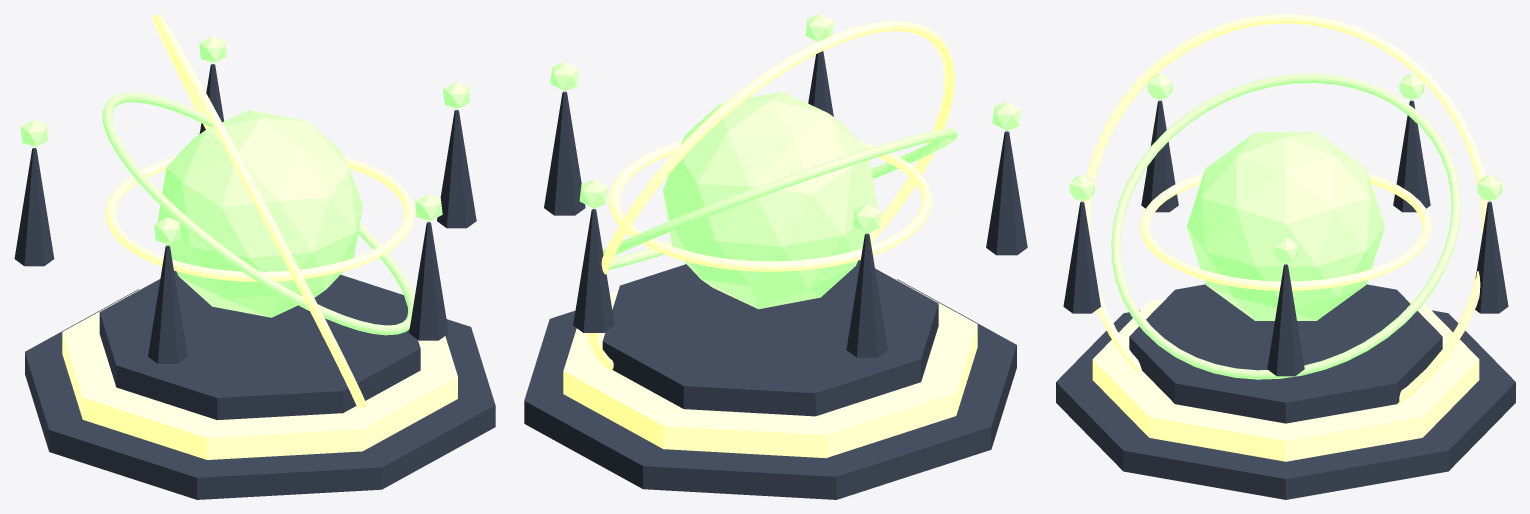
Rendered from gpu-blender-v55.glb.
3 renders of one model, left to right at view 1: azimuth 30°, elevation 25°; view 2: azimuth 150°, elevation 25°; view 3: azimuth 270°, elevation 25°, orthographic. The views are drawn at different scales.
Parts seen in each view (by area): view 1: Cylinder.002, SovereignCore_cwv-speed-engine, Cylinder, Cylinder.001, Torus.001, Torus.002, Torus, Cone.002, Cone.004, Cone.003, Cone, Icosphere.001 (+5 smaller); view 2: Cylinder.002, SovereignCore_cwv-speed-engine, Cylinder, Cylinder.001, Torus.002, Torus, Torus.001, Cone.003, Cone.002, Cone, Cone.001, Cone.004 (+5 smaller); view 3: SovereignCore_cwv-speed-engine, Cylinder.002, Cylinder, Cylinder.001, Torus.001, Torus.002, Torus, Cone, Cone.004, Cone.001, Cone.002, Cone.003 (+5 smaller).
Boxes of the visible parts, left/top/right/bottom form: Cylinder.002: left=99, top=271, right=420, bottom=420; SovereignCore_cwv-speed-engine: left=157, top=110, right=362, bottom=317; Cylinder: left=25, top=289, right=495, bottom=499; Cylinder.001: left=62, top=279, right=457, bottom=459; Torus.001: left=102, top=92, right=414, bottom=335; Torus.002: left=152, top=14, right=366, bottom=407; Torus: left=105, top=156, right=414, bottom=281; Cone.002: left=14, top=148, right=54, bottom=266; Cone.004: left=409, top=222, right=448, bottom=340; Cone.003: left=148, top=245, right=187, bottom=363; Cone: left=437, top=110, right=476, bottom=228; Icosphere.001: left=199, top=36, right=226, bottom=63; Cylinder.002: left=602, top=260, right=938, bottom=416; SovereignCore_cwv-speed-engine: left=663, top=91, right=877, bottom=309; Cylinder: left=524, top=279, right=1016, bottom=499; Cylinder.001: left=563, top=269, right=977, bottom=458; Torus.002: left=587, top=20, right=954, bottom=370; Torus: left=609, top=140, right=932, bottom=271; Torus.001: left=603, top=128, right=957, bottom=269; Cone.003: left=986, top=131, right=1027, bottom=255; Cone.002: left=846, top=233, right=887, bottom=357; Cone: left=544, top=91, right=585, bottom=215; Cone.001: left=573, top=209, right=614, bottom=332; Cone.004: left=808, top=51, right=833, bottom=116; SovereignCore_cwv-speed-engine: left=1186, top=132, right=1385, bottom=320; Cylinder.002: left=1129, top=284, right=1442, bottom=423; Cylinder: left=1056, top=310, right=1515, bottom=499; Cylinder.001: left=1092, top=298, right=1479, bottom=461; Torus.001: left=1111, top=73, right=1460, bottom=379; Torus.002: left=1083, top=14, right=1488, bottom=403; Torus: left=1140, top=173, right=1431, bottom=290; Cone: left=1267, top=264, right=1304, bottom=376; Cone.004: left=1063, top=201, right=1100, bottom=313; Cone.001: left=1475, top=201, right=1508, bottom=313; Cone.002: left=1393, top=100, right=1430, bottom=212; Cone.003: left=1141, top=100, right=1178, bottom=212.
Bounding box in the file's own units: 4.41 × 3.72 × 4.4.
